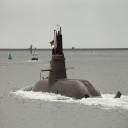submarine: (32, 27, 123, 100)
